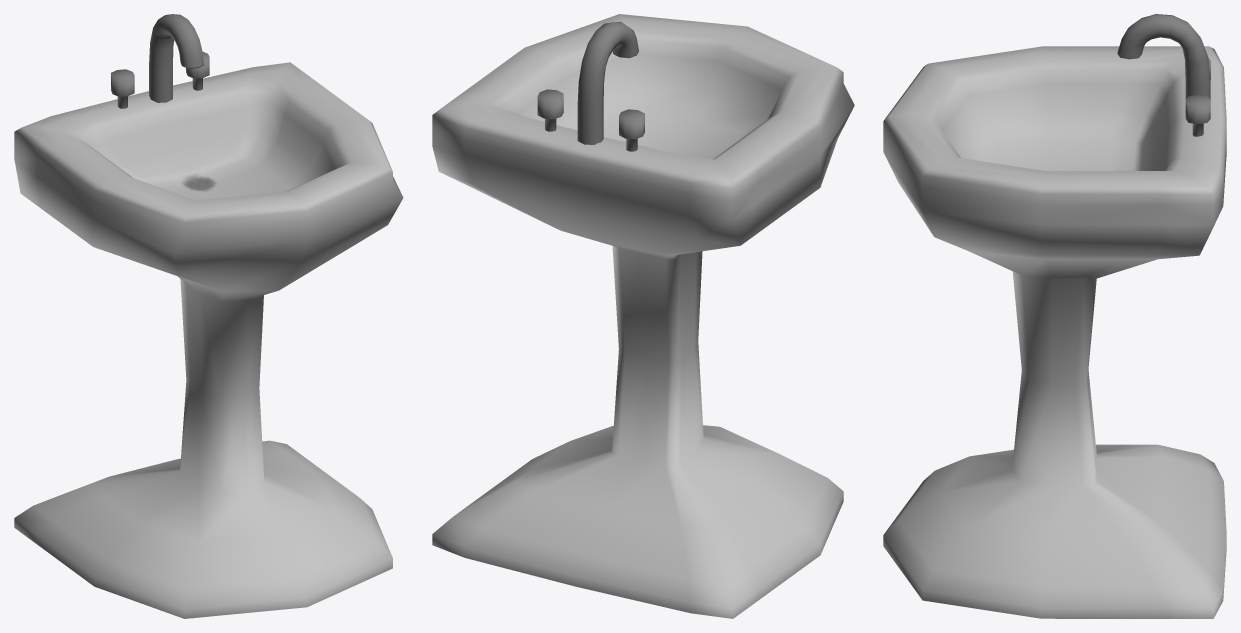
The model's file is bathroom sink.fbx.
The picture shows the model from 3 angles, left to right: view 1: azimuth 30°, elevation 25°; view 2: azimuth 150°, elevation 25°; view 3: azimuth 270°, elevation 25°; orthographic projection. The views are drawn at different scales.
Parts seen in each view (by area): view 1: polySurface572; view 2: polySurface572; view 3: polySurface572.
Boxes of the visible parts, x1,y1,x2,y2 form: polySurface572: [14, 14, 403, 618]; polySurface572: [432, 14, 854, 618]; polySurface572: [883, 14, 1226, 618].
Bounding box in the file's own units: 0.6724 × 1.14 × 0.6693.
Materials: 1 (1 with a texture image).
